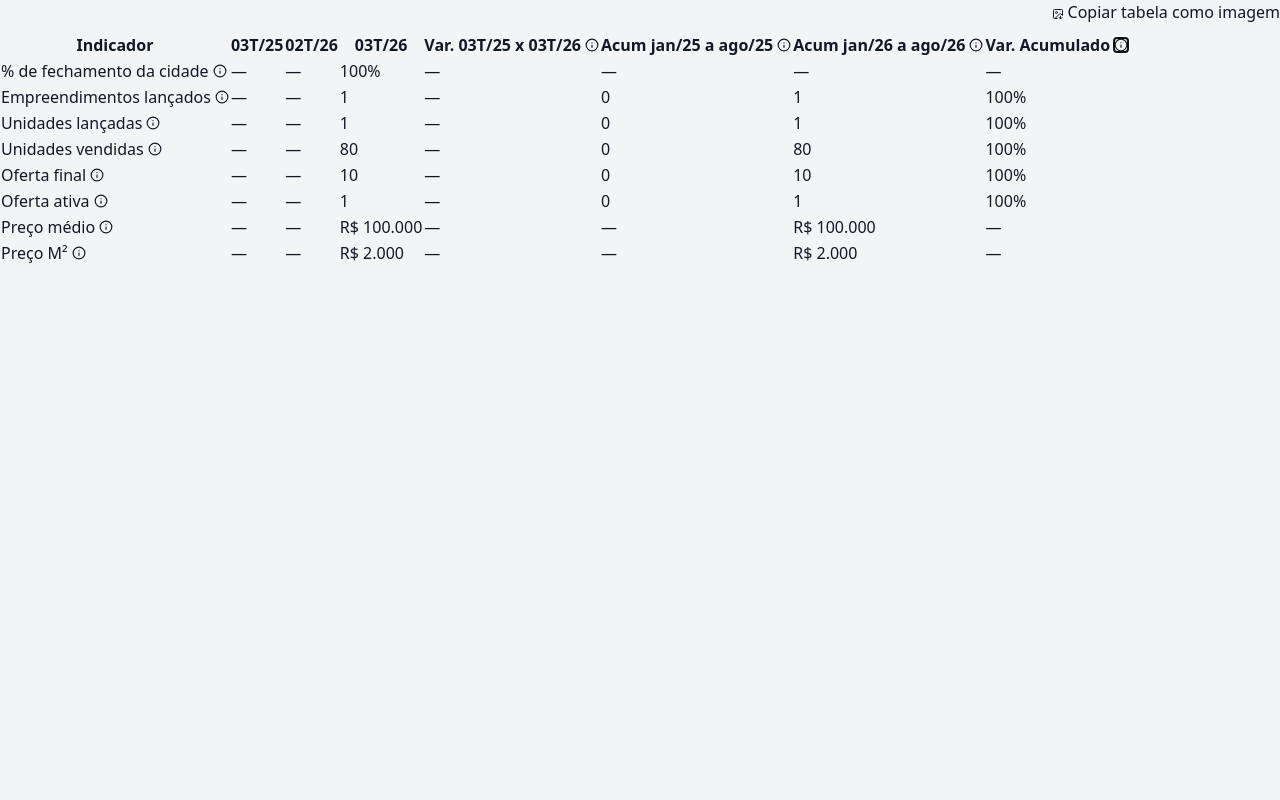
Test: variação anual do Resumo email › a ajuda de Variação acumulada descreve a regra vigente
This screenshot has width=1280, height=800.
Click the button named "Regra de cálculo — Variação acumulada" at (1121, 45), box [1114,38,1128,52]
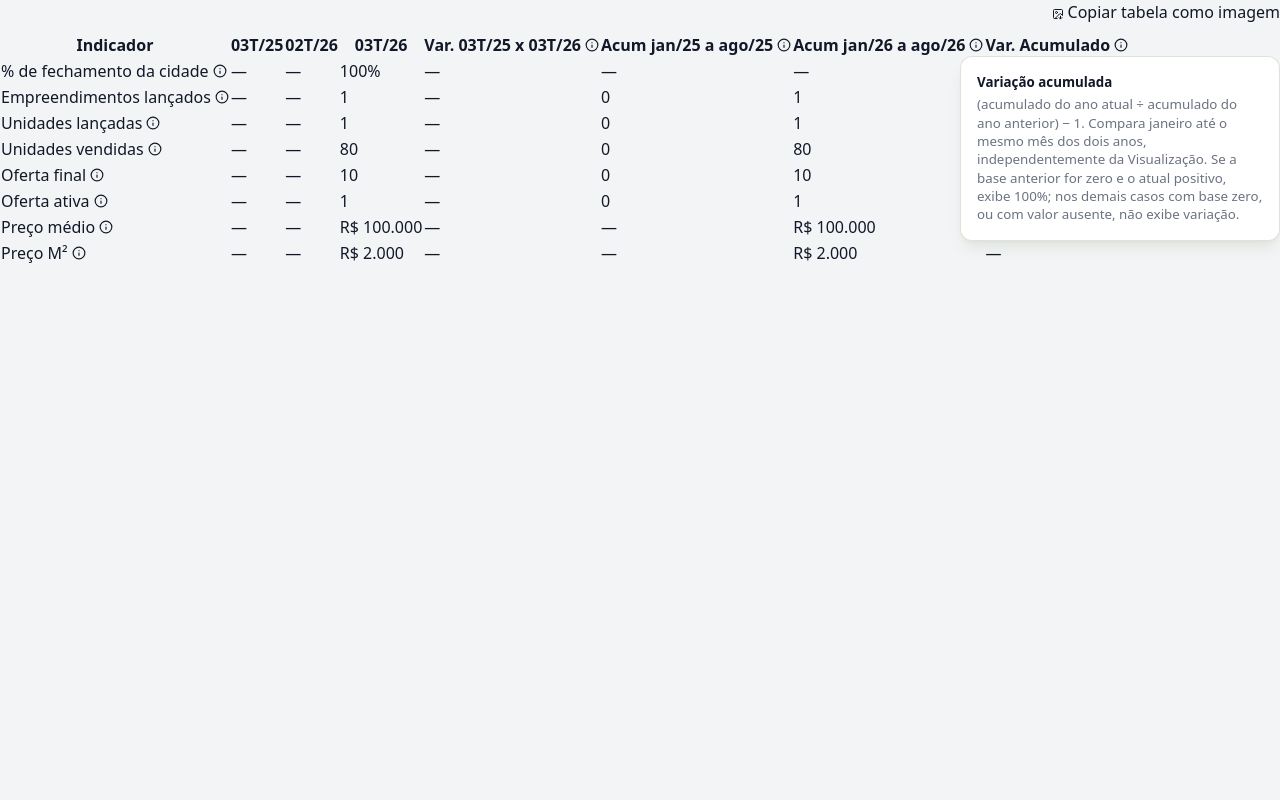
expect the dialog shows "Se a base anterior for zero e o atual positivo, exibe 100%": met, box [977,95,1262,223]
Press Escape in the dialog, box [960,56,1279,240]
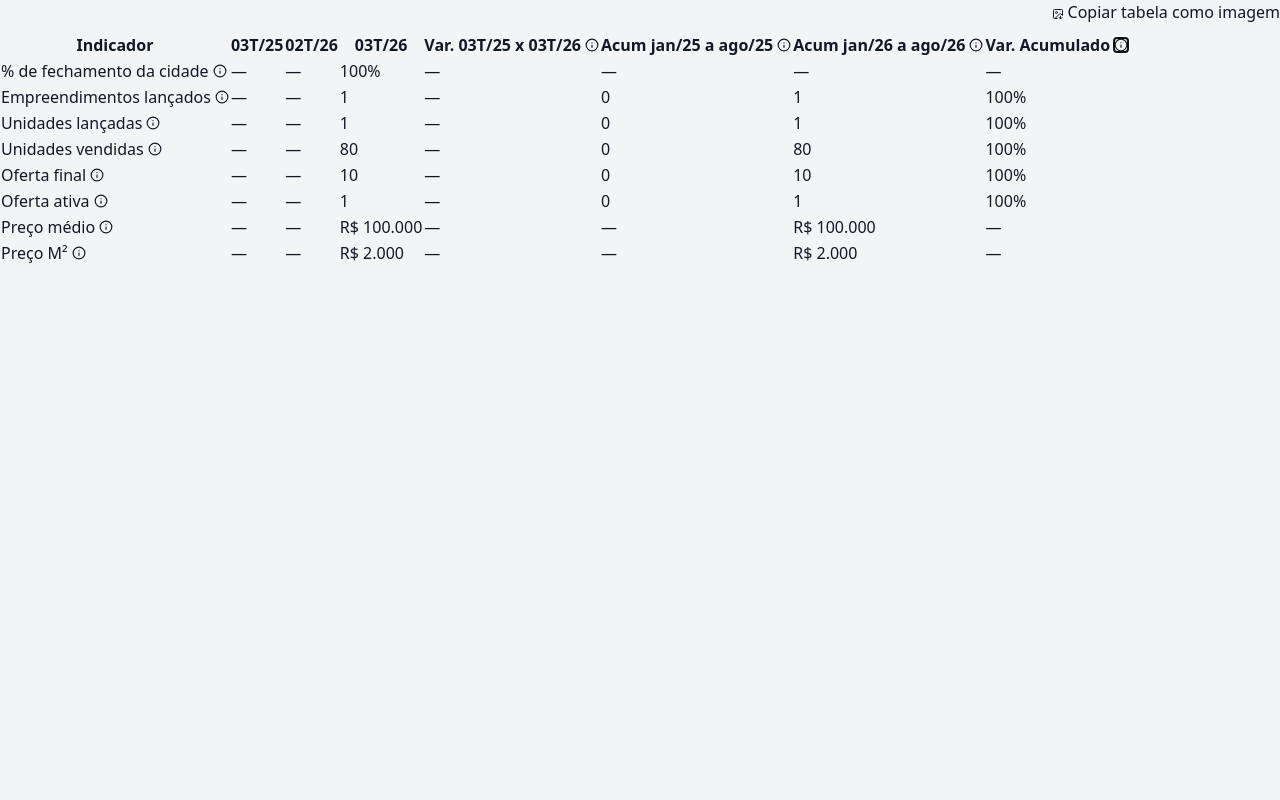
expect the dialog is gone: met
